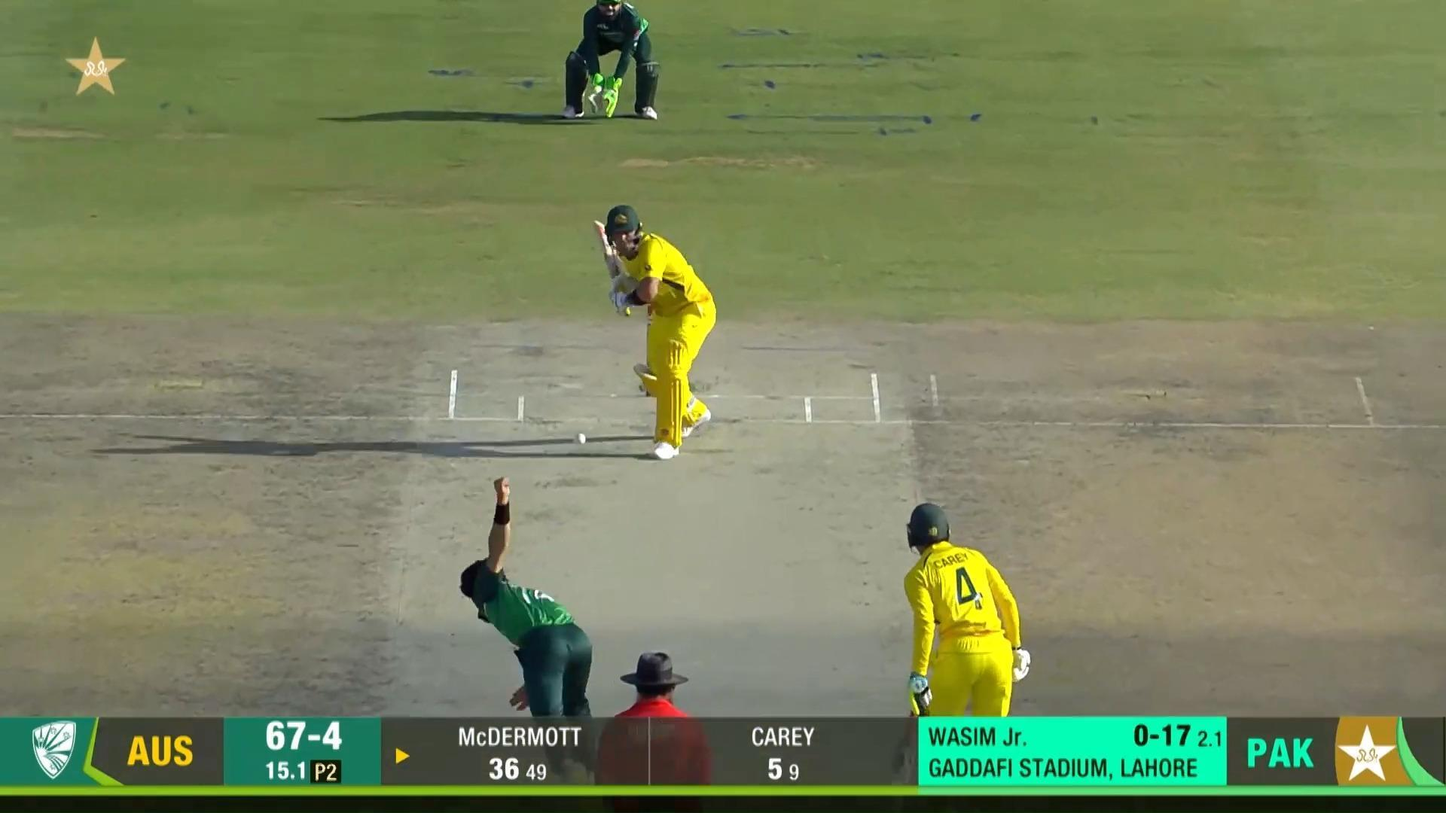BM 1: (592, 204, 717, 460)
BO: (459, 474, 594, 716)
